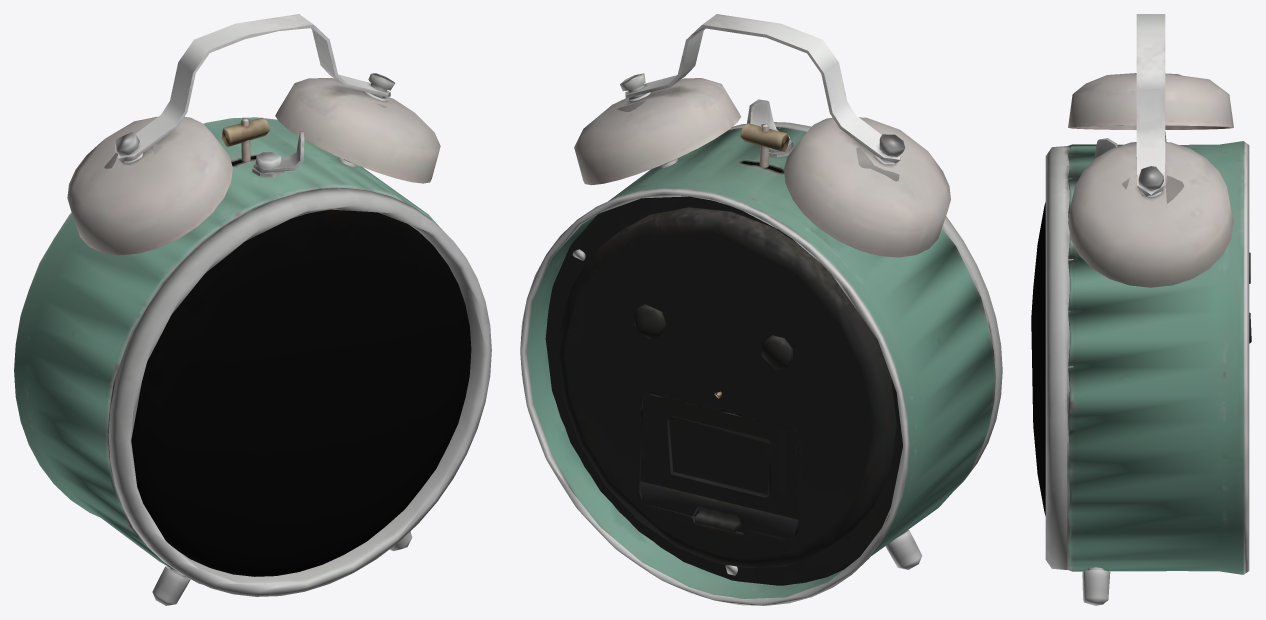
Rendered from alarmclock.glb.
3 views of the same model, side by side, from view 1: azimuth 30°, elevation 25°; view 2: azimuth 150°, elevation 25°; view 3: azimuth 270°, elevation 25° (orthographic). The views are drawn at different scales.
Parts seen in each view (by area): view 1: alarm_clock_01; view 2: alarm_clock_01; view 3: alarm_clock_01.
Boxes of the visible parts, x1,y1,x2,y2 form: alarm_clock_01: (14, 14, 491, 605); alarm_clock_01: (520, 14, 1002, 605); alarm_clock_01: (1031, 14, 1251, 605).
Size of the model in its own units: 0.1312 by 0.1738 by 0.0666.
Materials: 2 (2 with a texture image).
